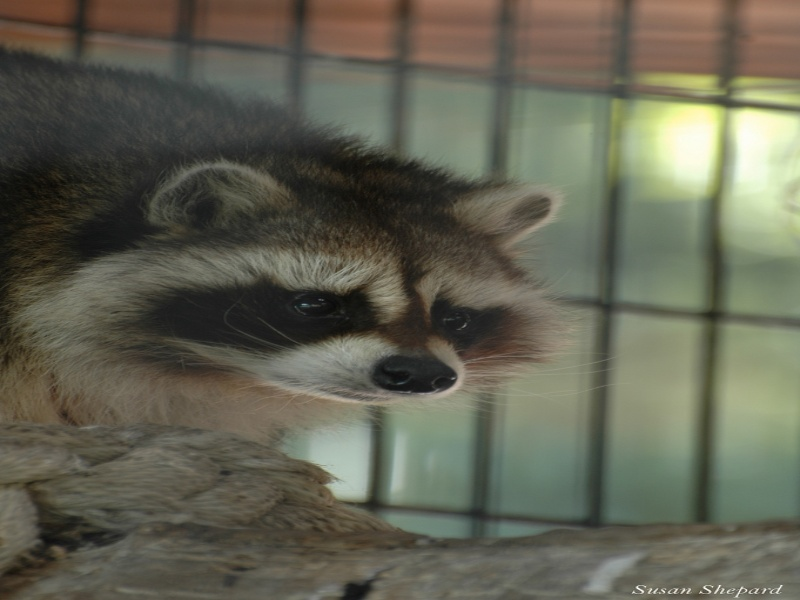raccoon: (1, 35, 564, 461)
